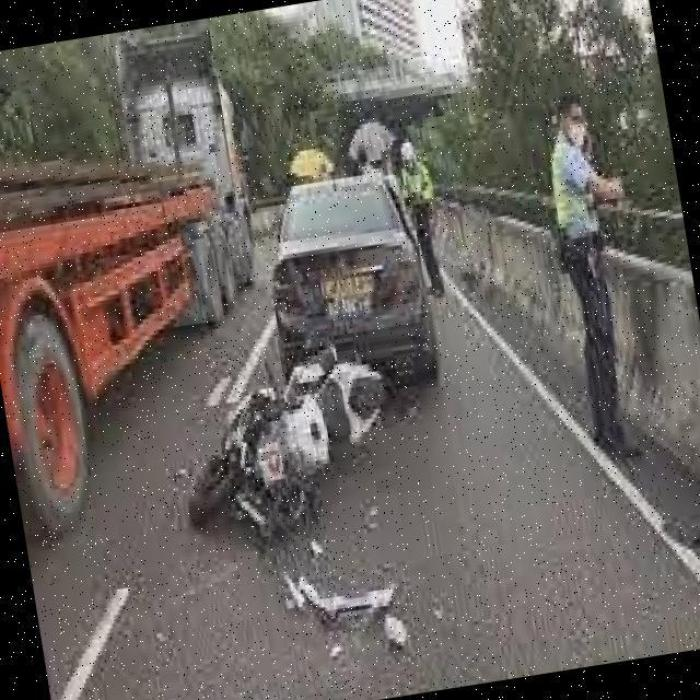Accident: (179, 311, 475, 581)
